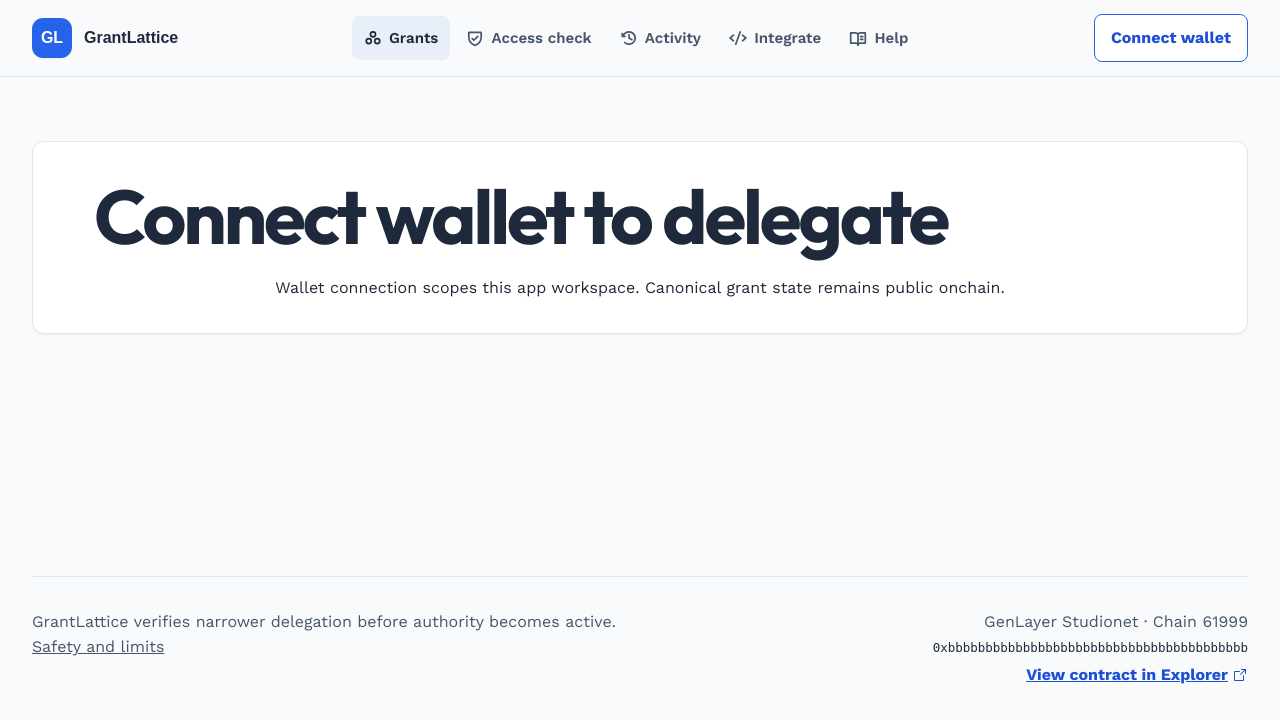
Test: real write journey controls › does not display delegation form outside the connected wallet account
Click the button "Connect wallet" at (1171, 38), box [1094, 14, 1248, 62]
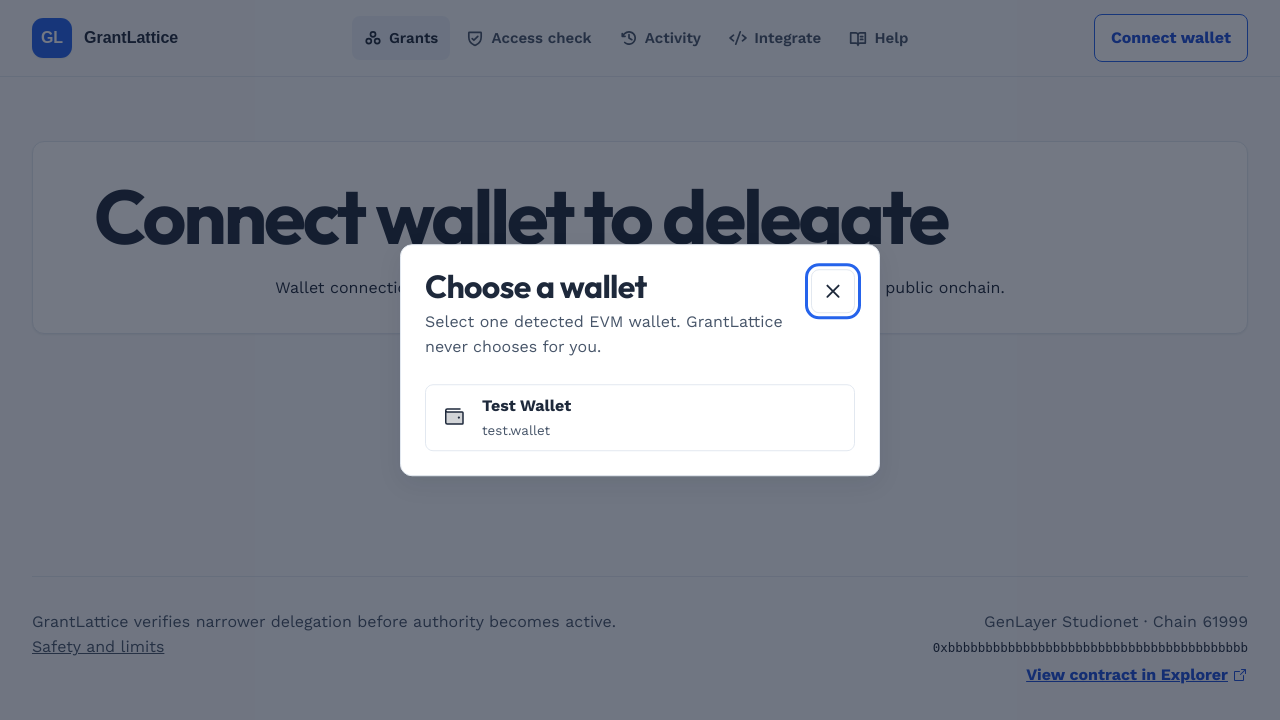
Click the button "Test Wallet test.wallet" at (527, 406), box [425, 384, 855, 451]
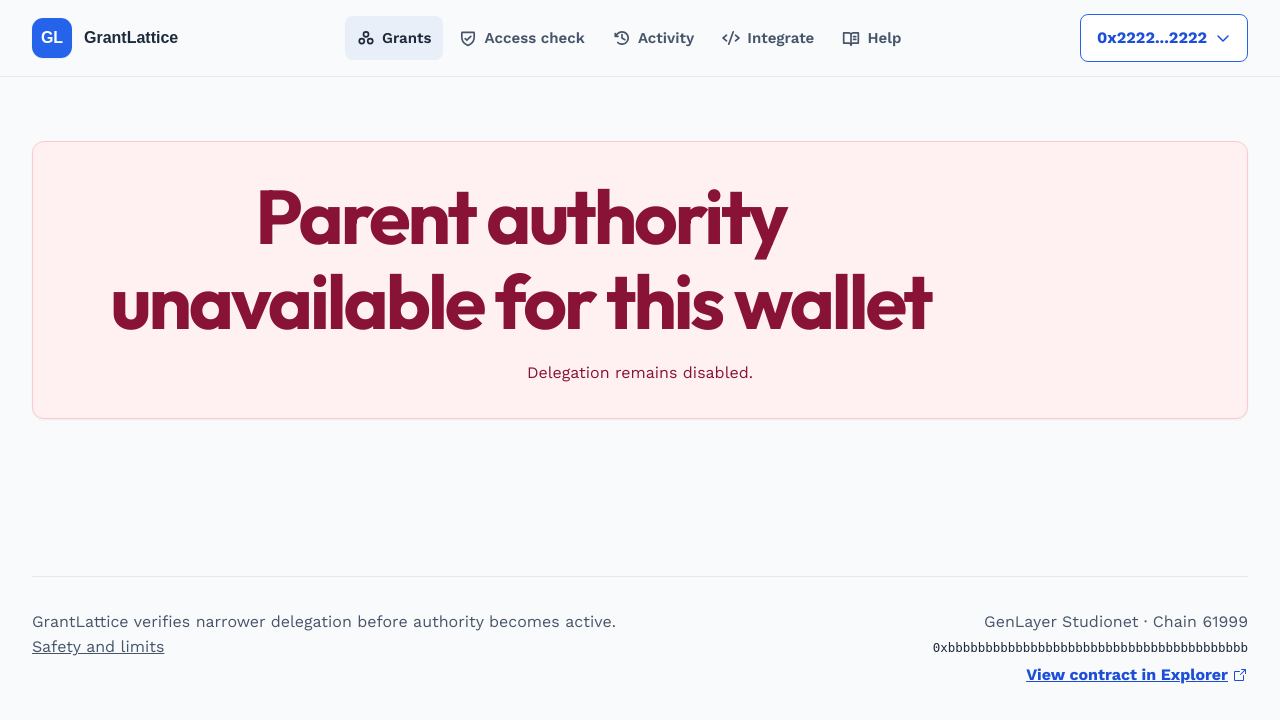
Expected: the heading "Parent authority unavailable for this wallet" is shown, [65, 174, 976, 344]
